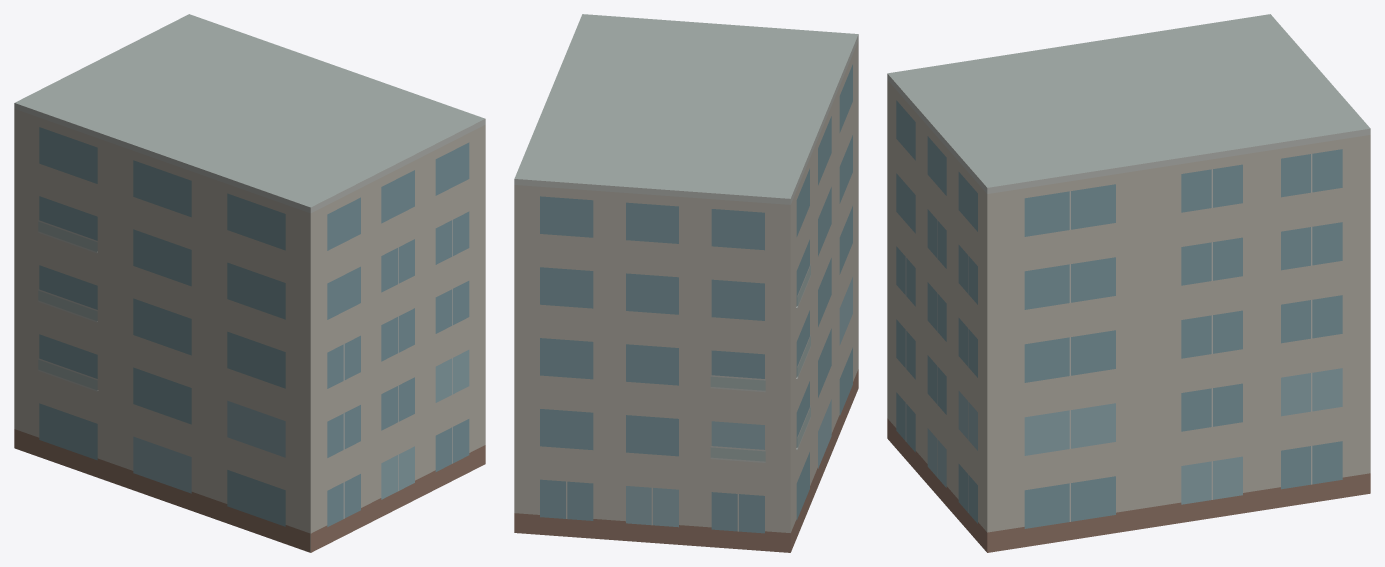
File: survey-upis-32926355.glb
3 views of the same model, side by side, from view 1: azimuth 30°, elevation 25°; view 2: azimuth 150°, elevation 25°; view 3: azimuth 270°, elevation 25° (orthographic). The views are drawn at different scales.
Visible parts, largest first — view 1: survey-upis-32926355.tmp; view 2: survey-upis-32926355.tmp; view 3: survey-upis-32926355.tmp.
Part boxes in pixels (x1,y1,x2,y2): survey-upis-32926355.tmp: (14,14,485,552); survey-upis-32926355.tmp: (514,14,858,552); survey-upis-32926355.tmp: (887,14,1370,552).
Bounding box in the file's own units: 14.62 × 14.3 × 17.17.
